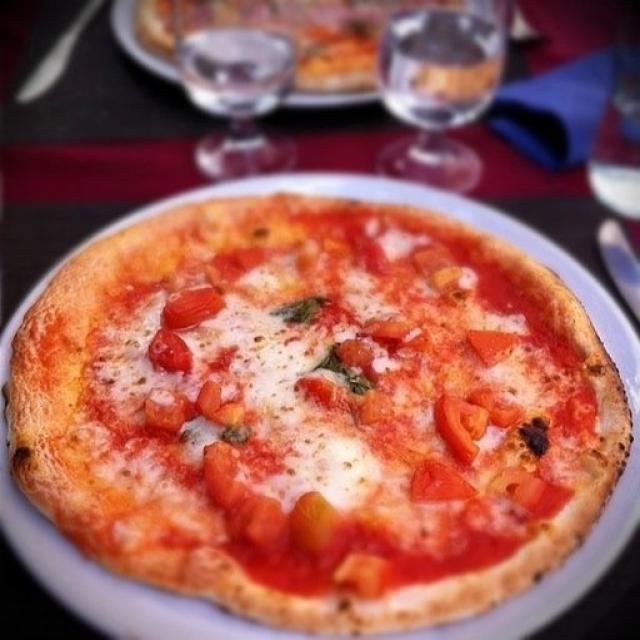Basil: (312, 346, 366, 390), (276, 292, 331, 331)
Pizza: (8, 194, 631, 632)
Tomato: (215, 496, 306, 561), (436, 388, 508, 459), (294, 487, 364, 555), (496, 454, 562, 520), (462, 327, 548, 371), (196, 380, 255, 436), (153, 286, 213, 333), (409, 460, 472, 503), (210, 235, 262, 285), (293, 363, 349, 406), (144, 390, 190, 433), (155, 334, 198, 377), (206, 444, 239, 498), (410, 247, 462, 281), (351, 321, 420, 342)
